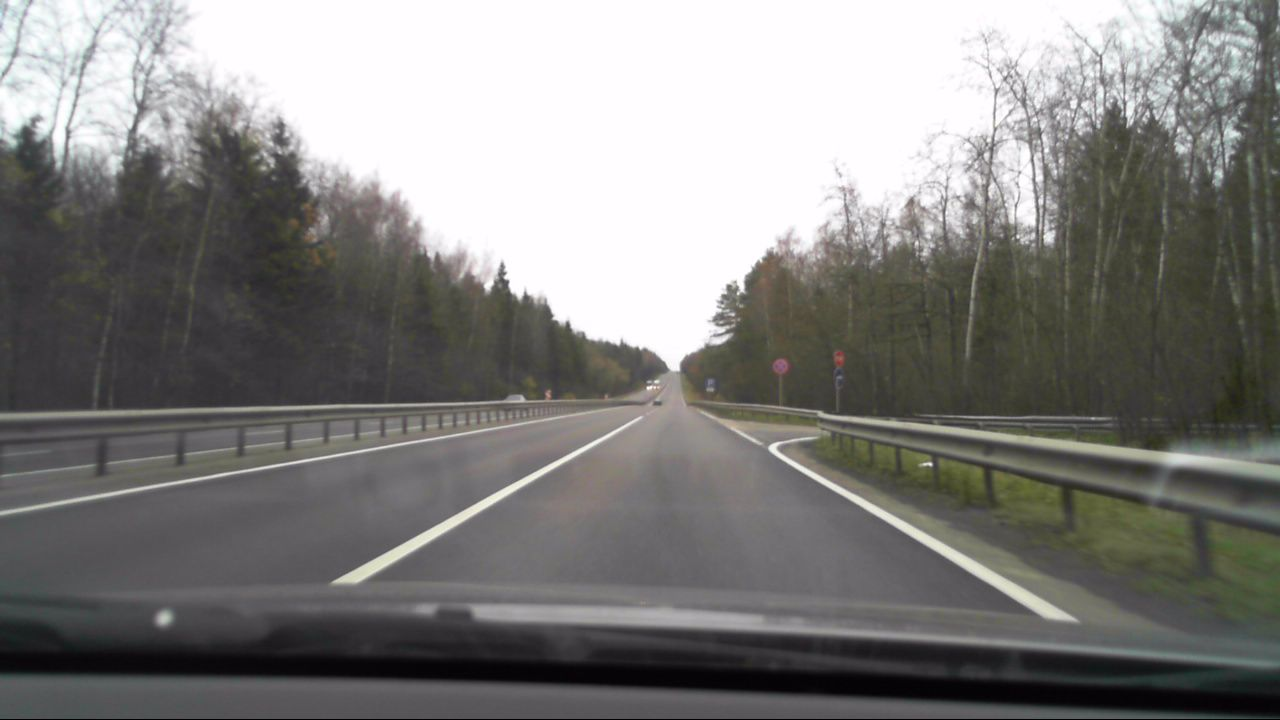No Parking: (774, 358, 791, 374)
